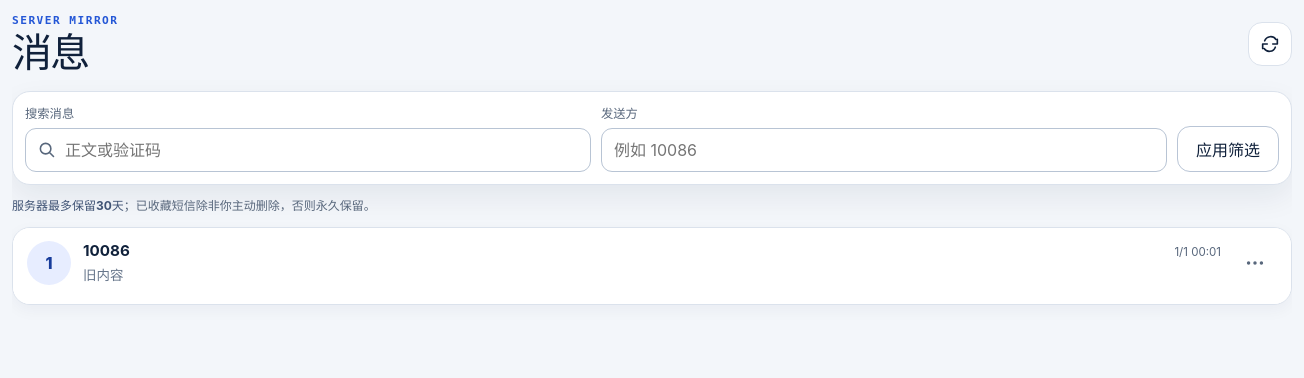
Test: MessagesView › 权威刷新更新同一短信记录而不是保留旧卡片内容
Expected: the text "旧内容" is shown, [83,266,123,282]
Click the button named "刷新消息".
click(1270, 44)  # box [1248,22,1292,66]
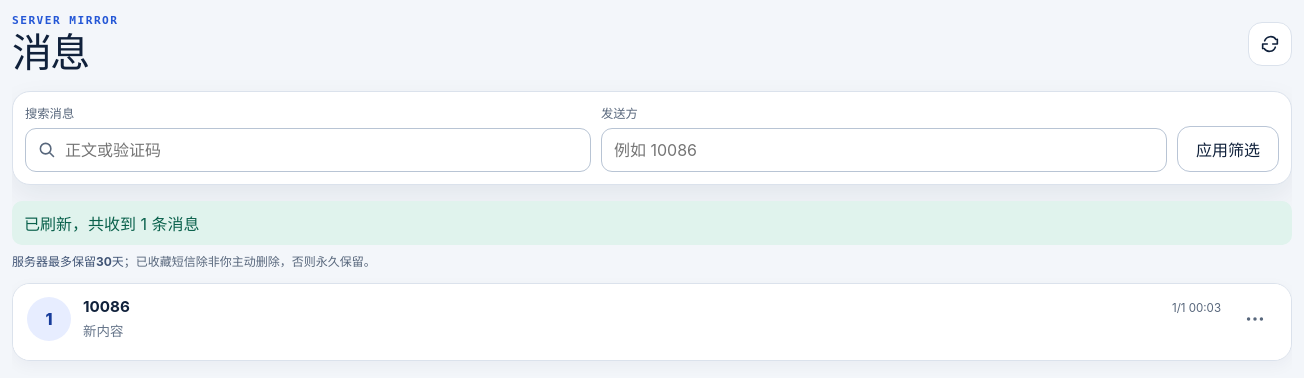
Expected: the text "新内容" is shown, [83,322,123,338]
Expected: the button "旧内容" is gone
